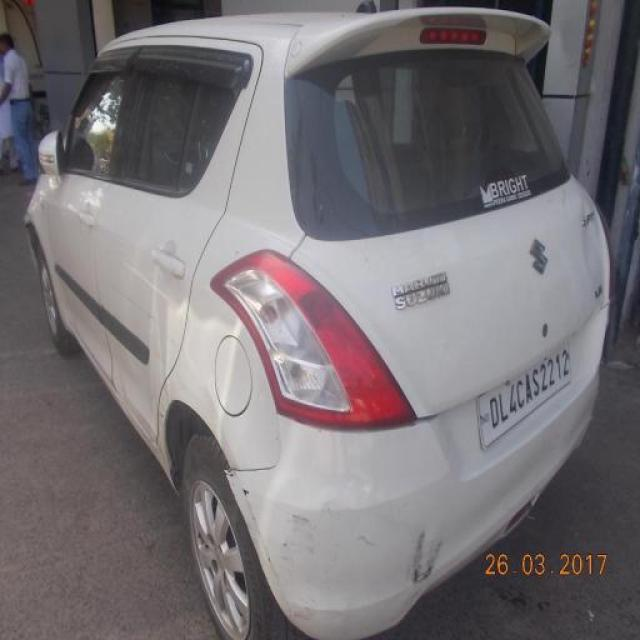dent: (279, 511, 320, 590), (411, 523, 448, 593), (582, 213, 611, 294)
